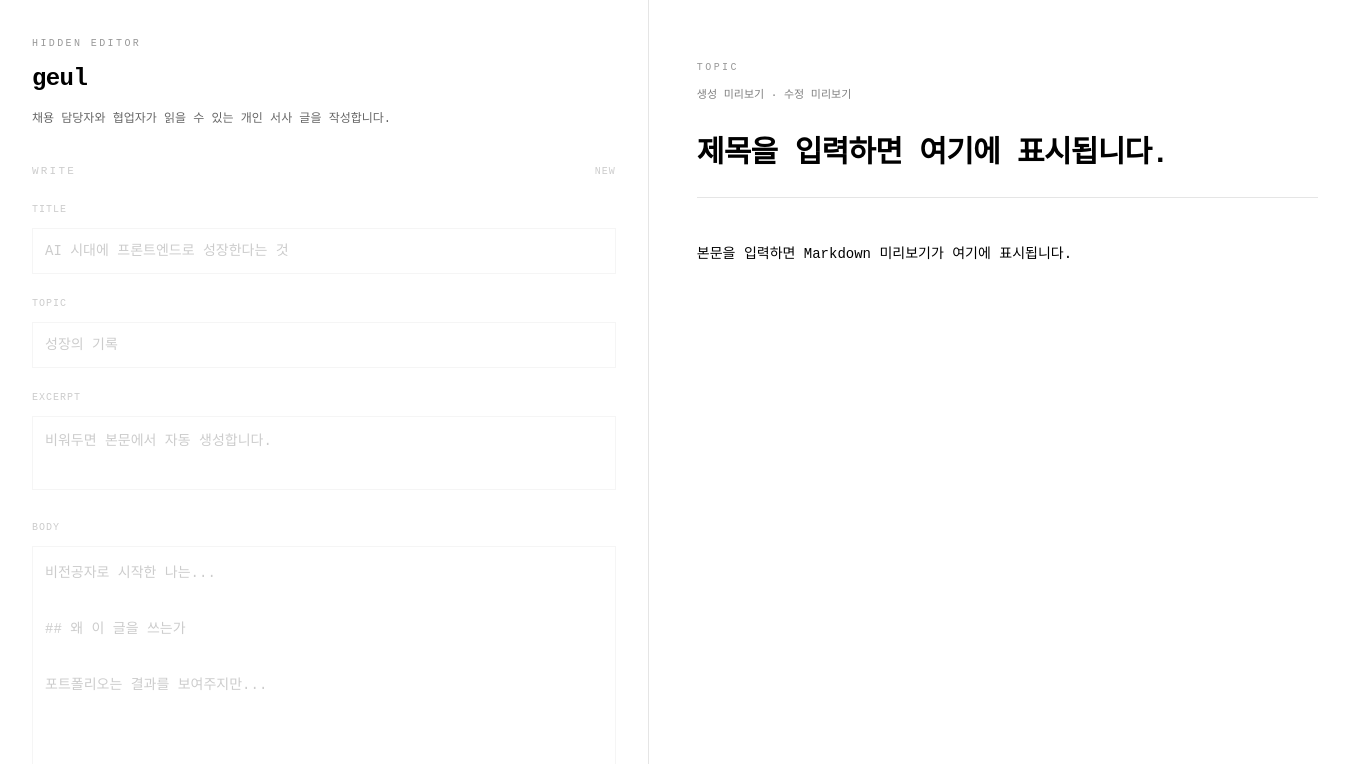
Test: GeulEditor › 새 글 작성 화면에서 slug 입력을 노출하지 않고 저장 요청에도 slug를 보내지 않는다
In the field with placeholder "AI 시대에 프론트엔드로 성장한다는 것": point(324, 250) [32, 228, 616, 274], type "랜덤 ID로 저장되는 글"
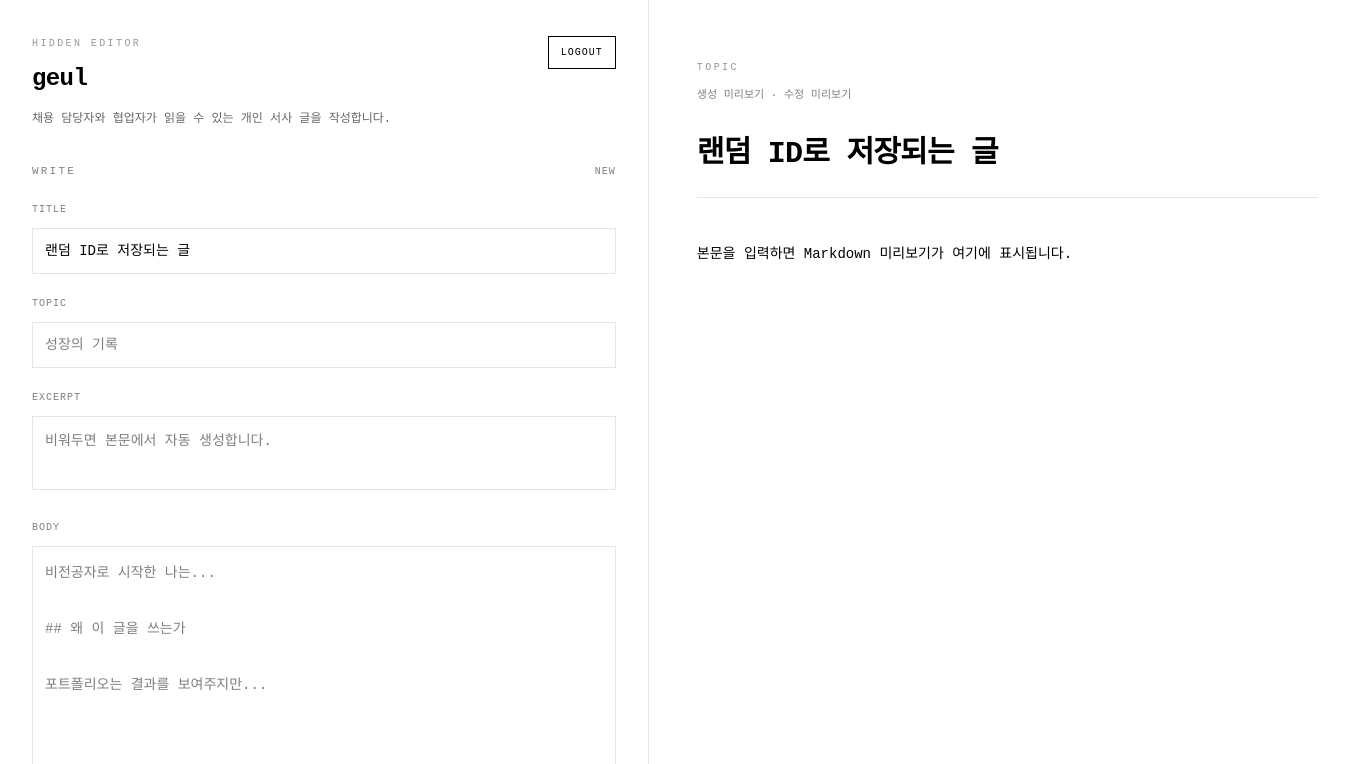
In the field with placeholder "성장의 기록": point(324, 344) [32, 322, 616, 368], type "기록"
(page scrolled)
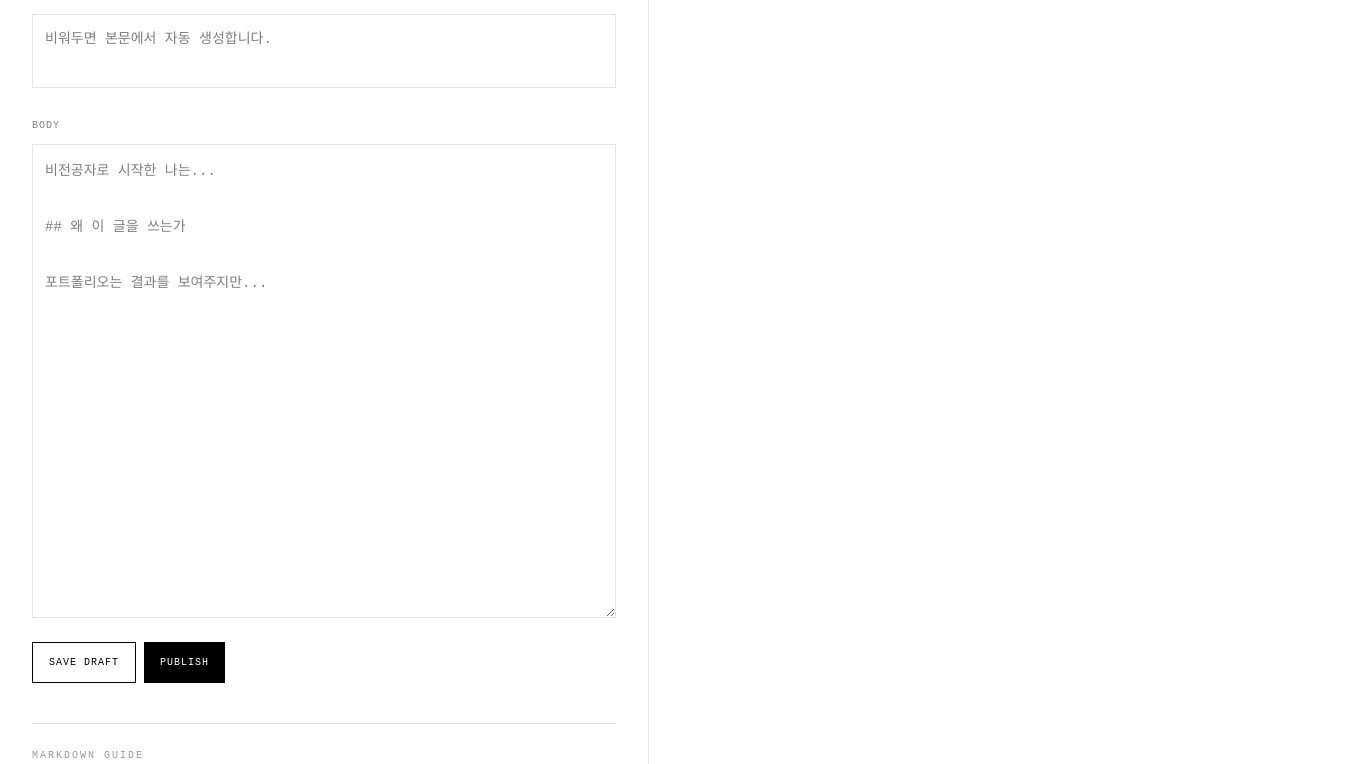
In the text box with placeholder "비전공자로 시작한 나는... ## 왜 이 글을 쓰는가 포트폴리오는 결과를 보여주지만...": point(324, 380) [32, 144, 616, 618], type "본문은 랜덤 ID 저장을 검증할 만큼 충분히 길다."
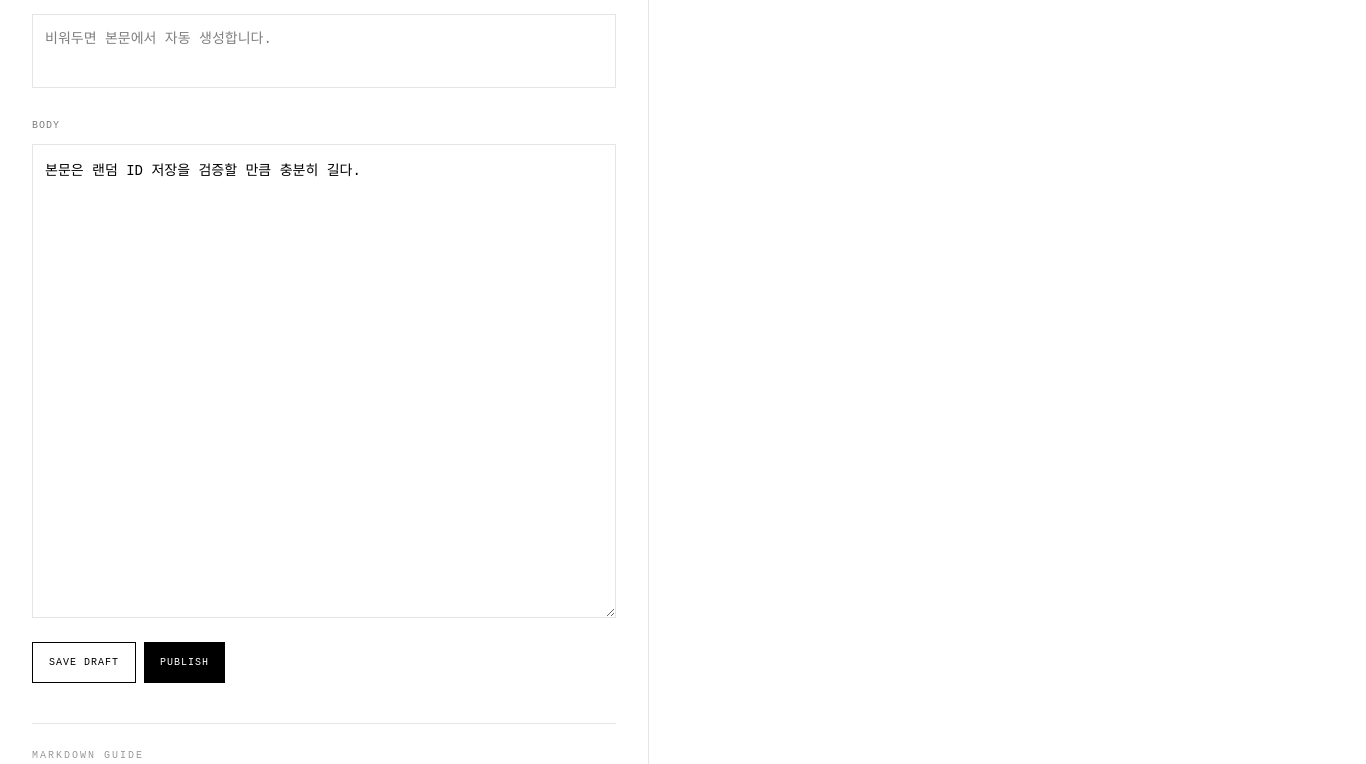
Click the button "publish": point(184, 662) [144, 642, 225, 682]
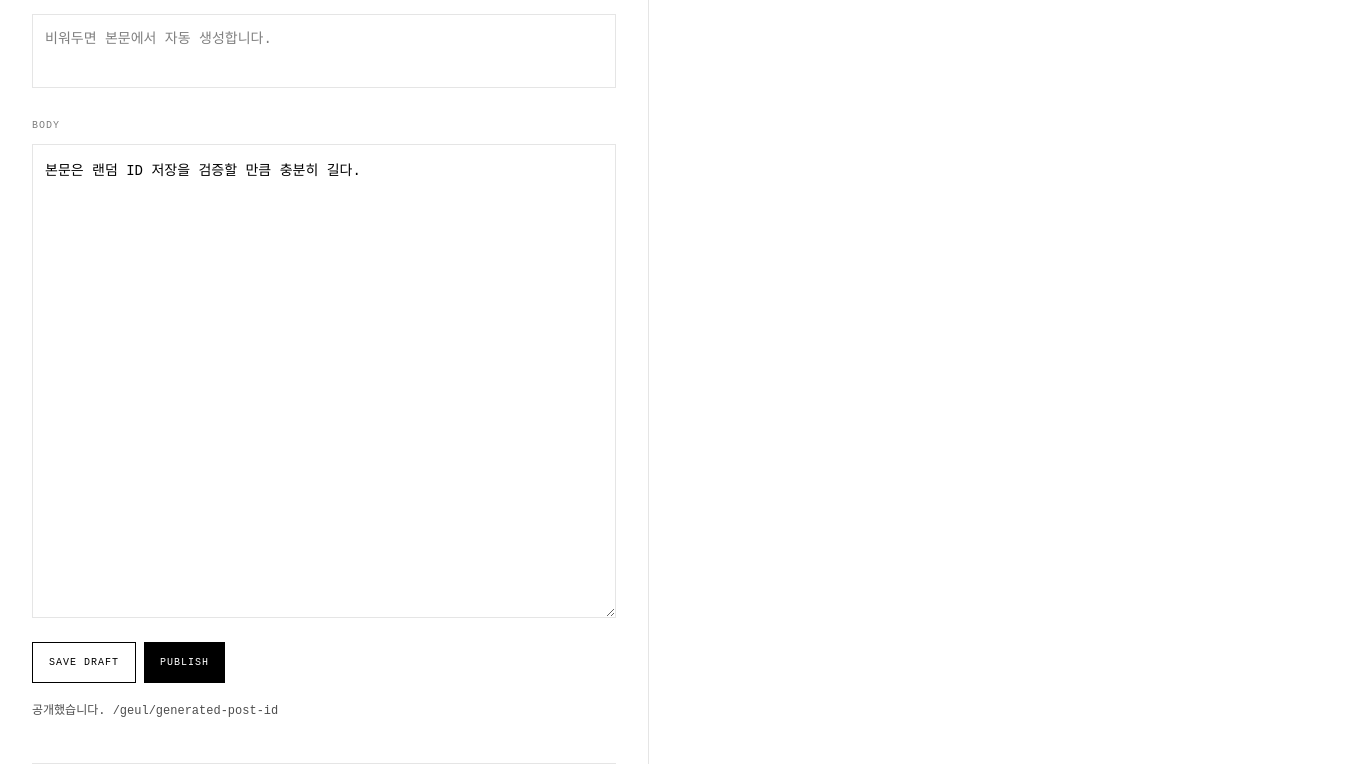
Expected: the text "공개했습니다. /geul/generated-post-id" is shown, [32, 704, 278, 718]
